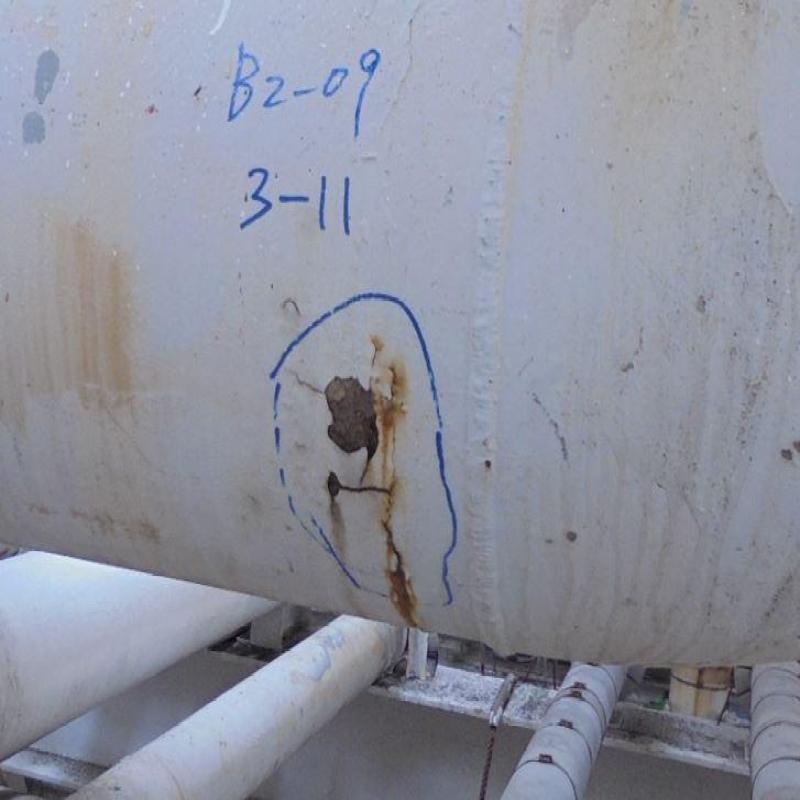Fracture: (382, 528, 413, 606), (330, 473, 401, 504)
corrosion: (320, 377, 389, 463)
